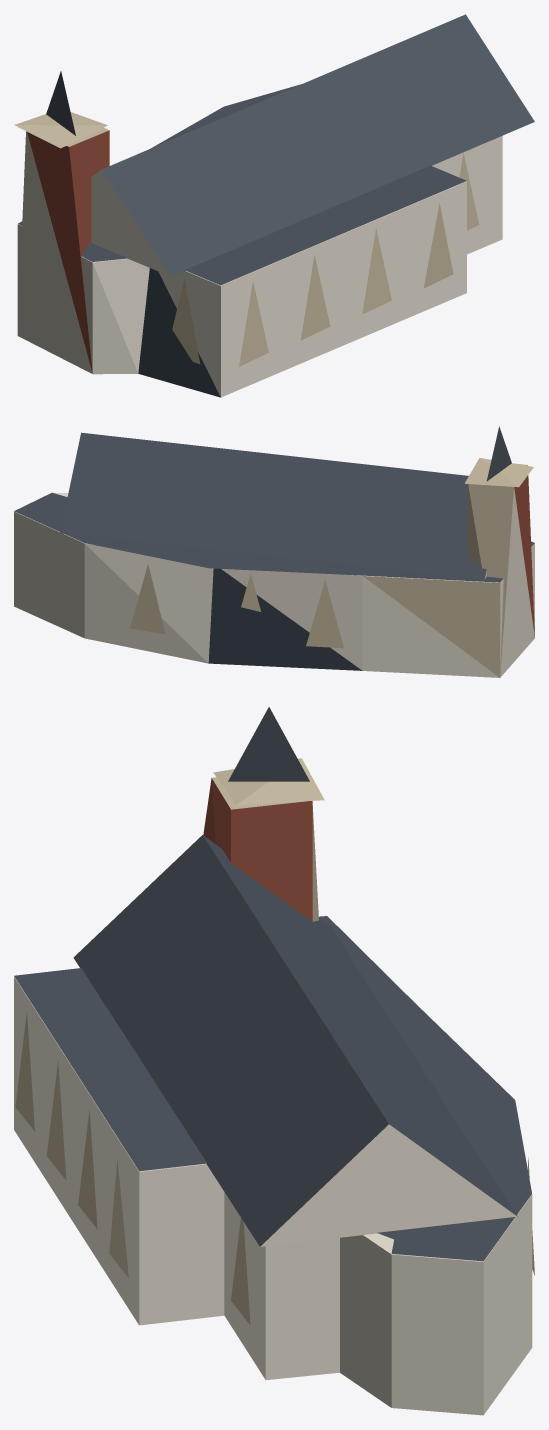
Rendered from english-reformed-church.lod2.glb.
3 views of the same model, one above another, from view 1: azimuth 30°, elevation 25°; view 2: azimuth 150°, elevation 25°; view 3: azimuth 270°, elevation 25° (orthographic). The views are drawn at different scales.
Parts seen in each view (by area): view 1: lod2; view 2: lod2; view 3: lod2.
Boxes of the visible parts, x1=… form: lod2: x1=14, y1=14, x2=534, y2=397; lod2: x1=14, y1=426, x2=534, y2=677; lod2: x1=14, y1=707, x2=534, y2=1415.
Bounding box in the file's own units: 36.6 × 18.25 × 22.76.
